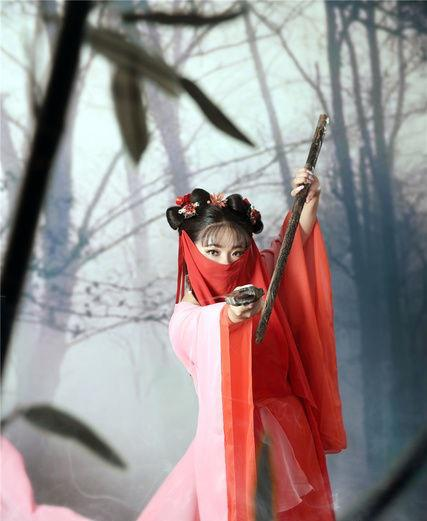WRONG: (201, 242, 250, 291)
